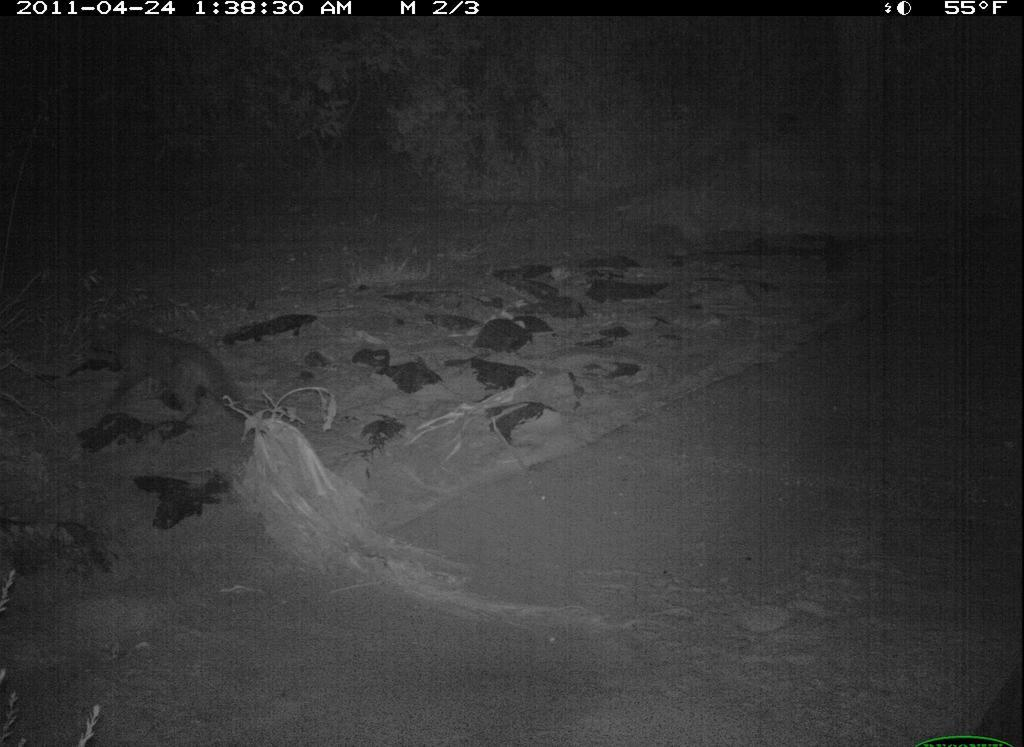cat: (79, 313, 265, 429)
